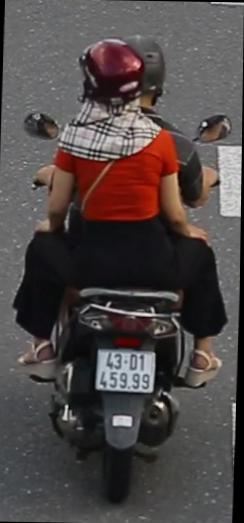LP: (94, 343, 159, 395)
helmet: (75, 32, 146, 124), (123, 30, 169, 98)
